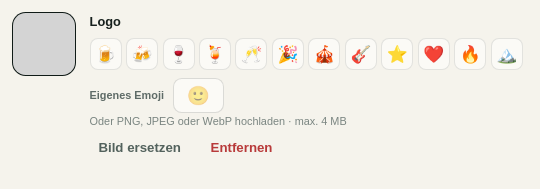
Test: icon editor › switches between curated and custom emoji
Click the button named "🍺 auswählen": (106, 54) x1=90 y1=38 x2=122 y2=70
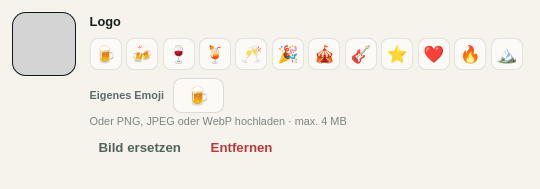
Replace the text in the field labelled "Eigenes Emoji" with "👨‍👩‍👧‍👦": (198, 96) x1=173 y1=78 x2=224 y2=113
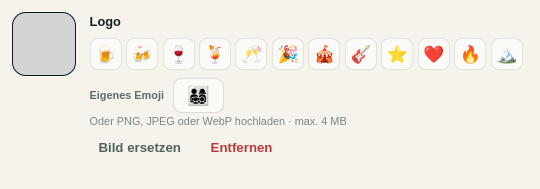
Replace the text in the field labelled "Eigenes Emoji" with "Bier": (198, 96) x1=173 y1=78 x2=224 y2=113
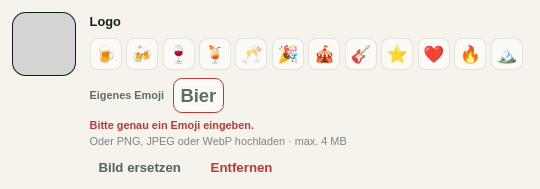
Expected: the text "Bitte genau ein Emoji eingeben." is shown, x1=90 y1=119 x2=254 y2=131
